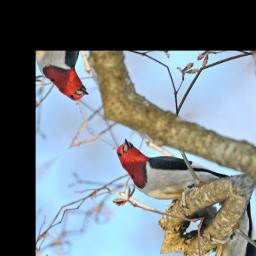Woodpecker: (101, 94, 242, 238)
